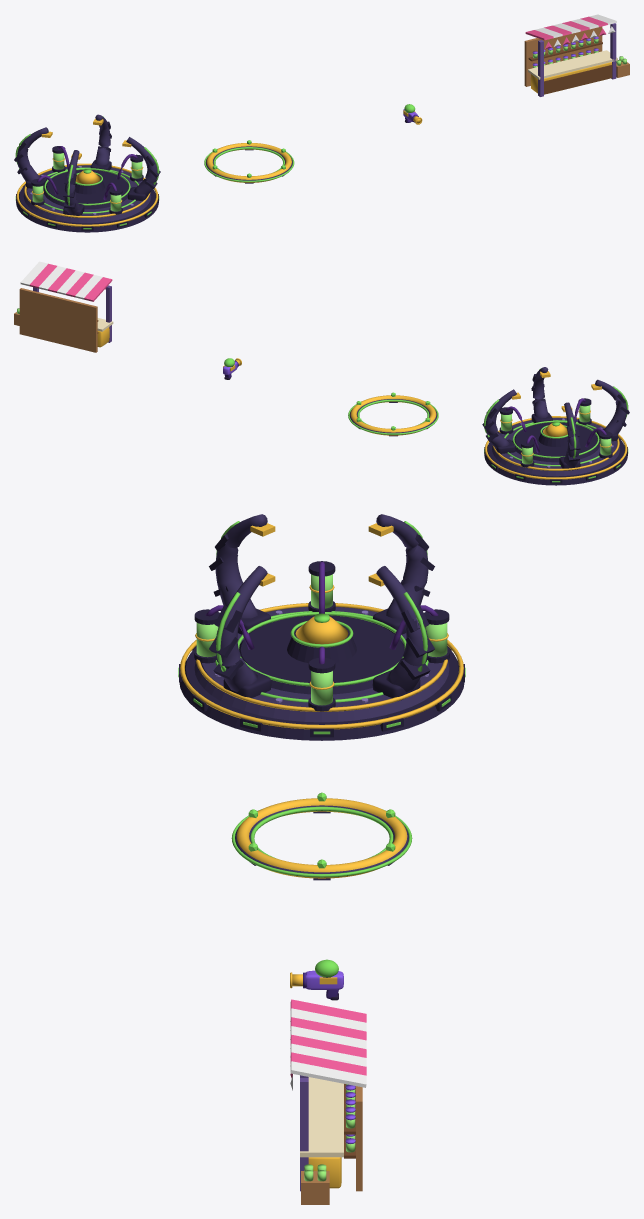
File: SAG_Hub.fbx
3 views of the same model, one above another, from view 1: azimuth 30°, elevation 25°; view 2: azimuth 150°, elevation 25°; view 3: azimuth 270°, elevation 25° (orthographic). The views are drawn at different scales.
Visible parts, largest first — view 1: P_GooberBreach__MetalDark, P_GooberBreach__Metal, P_GooberBreach__Trim, P_MartStall__Wood, P_MartStall__WoodDark, P_GooberBreach__Glow, P_MartStall__Top, P_BreachRing__Trim, P_GooberBreach__Slime, P_MartStall__StripeA, P_MartStall__StripeB, P_BreachRing__Glow (+5 smaller); view 2: P_GooberBreach__MetalDark, P_GooberBreach__Metal, P_MartStall__Wood, P_GooberBreach__Trim, P_MartStall__StripeA, P_GooberBreach__Glow, P_MartStall__StripeB, P_BreachRing__Trim, P_GooberBreach__Slime, P_BreachRing__Glow, P_GooberBreach__Hose; view 3: P_GooberBreach__MetalDark, P_GooberBreach__Metal, P_GooberBreach__Trim, P_BreachRing__Trim, P_GooberBreach__Glow, P_MartStall__StripeB, P_MartStall__StripeA, P_MartStall__Top, P_BreachRing__Glow, P_GooberBreach__Slime, P_MartStall__Wood, P_BreachRing__Metal (+1 smaller).
Boxes of the visible parts, x1=… form: P_GooberBreach__MetalDark: x1=14, y1=121, x2=160, y2=232; P_GooberBreach__Metal: x1=17, y1=114, x2=157, y2=223; P_GooberBreach__Trim: x1=16, y1=118, x2=158, y2=226; P_MartStall__Wood: x1=524, y1=26, x2=629, y2=86; P_MartStall__WoodDark: x1=528, y1=40, x2=612, y2=94; P_GooberBreach__Glow: x1=15, y1=116, x2=159, y2=229; P_MartStall__Top: x1=528, y1=50, x2=617, y2=79; P_BreachRing__Trim: x1=206, y1=143, x2=291, y2=182; P_GooberBreach__Slime: x1=32, y1=152, x2=142, y2=211; P_MartStall__StripeA: x1=525, y1=16, x2=607, y2=49; P_MartStall__StripeB: x1=535, y1=14, x2=616, y2=46; P_BreachRing__Glow: x1=204, y1=140, x2=294, y2=182; P_GooberBreach__MetalDark: x1=482, y1=374, x2=629, y2=485; P_GooberBreach__Metal: x1=485, y1=367, x2=626, y2=476; P_MartStall__Wood: x1=14, y1=288, x2=97, y2=352; P_GooberBreach__Trim: x1=484, y1=371, x2=627, y2=479; P_MartStall__StripeA: x1=29, y1=263, x2=112, y2=301; P_GooberBreach__Glow: x1=484, y1=368, x2=628, y2=482; P_MartStall__StripeB: x1=20, y1=261, x2=102, y2=299; P_BreachRing__Trim: x1=350, y1=395, x2=436, y2=435; P_GooberBreach__Slime: x1=501, y1=405, x2=611, y2=464; P_BreachRing__Glow: x1=348, y1=392, x2=438, y2=434; P_GooberBreach__Hose: x1=505, y1=398, x2=606, y2=452; P_GooberBreach__MetalDark: x1=179, y1=534, x2=464, y2=740; P_GooberBreach__Metal: x1=194, y1=514, x2=449, y2=722; P_GooberBreach__Trim: x1=180, y1=523, x2=463, y2=729; P_BreachRing__Trim: x1=236, y1=798, x2=407, y2=878; P_GooberBreach__Glow: x1=178, y1=521, x2=465, y2=734; P_MartStall__StripeB: x1=290, y1=1008, x2=366, y2=1090; P_MartStall__StripeA: x1=290, y1=999, x2=366, y2=1078; P_MartStall__Top: x1=300, y1=1077, x2=343, y2=1157; P_BreachRing__Glow: x1=231, y1=792, x2=412, y2=877; P_GooberBreach__Slime: x1=196, y1=574, x2=447, y2=705; P_MartStall__Wood: x1=301, y1=1086, x2=362, y2=1204; P_BreachRing__Metal: x1=235, y1=805, x2=408, y2=880.
Size of the model in its own units: 126 by 14.75 by 26.16.
